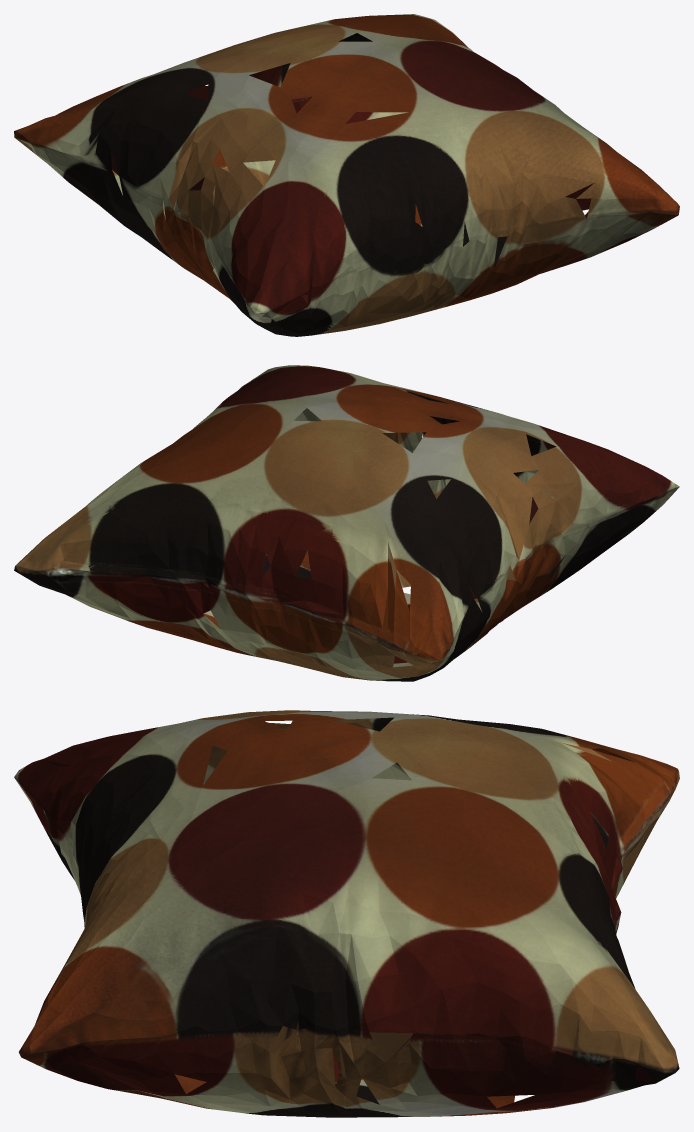
Rendered from pillow_kaba.dae.
3 views of the same model, one above another, from view 1: azimuth 30°, elevation 25°; view 2: azimuth 150°, elevation 25°; view 3: azimuth 270°, elevation 25° (orthographic). The views are drawn at different scales.
Parts seen in each view (by area): view 1: pillow_kabap; view 2: pillow_kabap; view 3: pillow_kabap.
Boxes of the visible parts, left/top/right/bottom form: pillow_kabap: left=14, top=14, right=679, bottom=336; pillow_kabap: left=14, top=365, right=679, bottom=681; pillow_kabap: left=14, top=710, right=679, bottom=1117.
Bounding box in the file's own units: 0.4314 × 0.4229 × 0.2197.
Materials: 1 (1 with a texture image).
